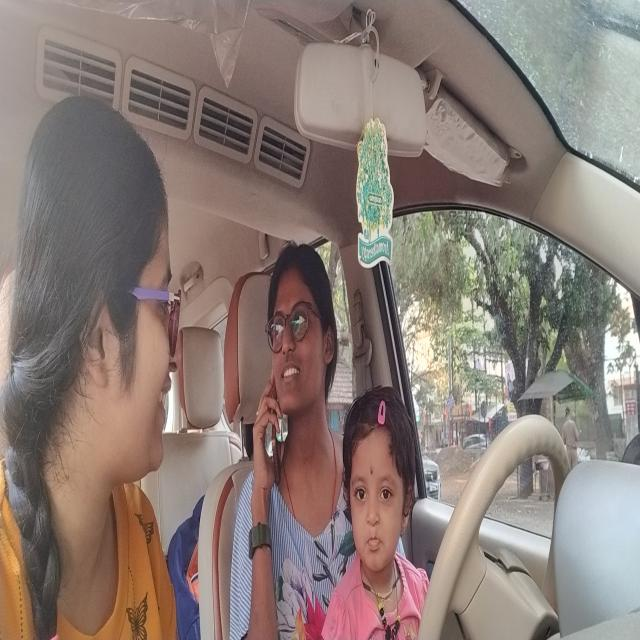LeftRight: (264, 248, 333, 422)
child: (346, 404, 412, 576)
mobile: (268, 404, 288, 493)
person: (80, 102, 178, 484)
talking: (280, 361, 303, 388)
